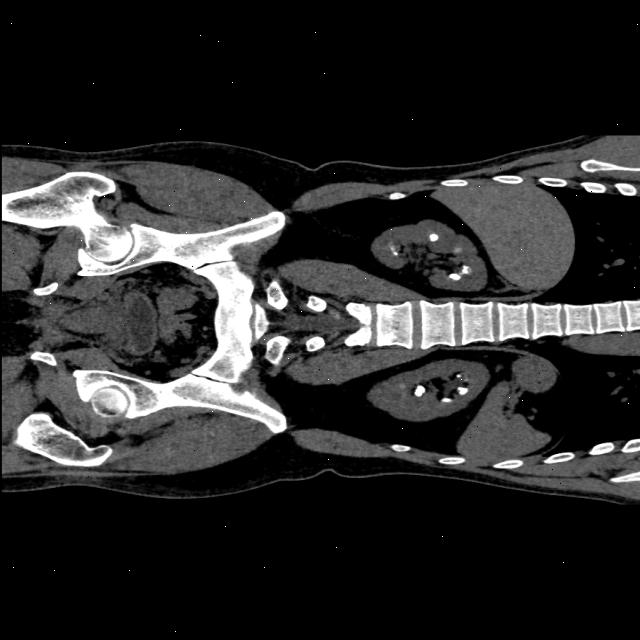kidneystone: (413, 385, 425, 396), (449, 272, 461, 281), (457, 386, 467, 395), (461, 265, 470, 274), (428, 234, 438, 241), (455, 372, 461, 378), (440, 398, 452, 401)
